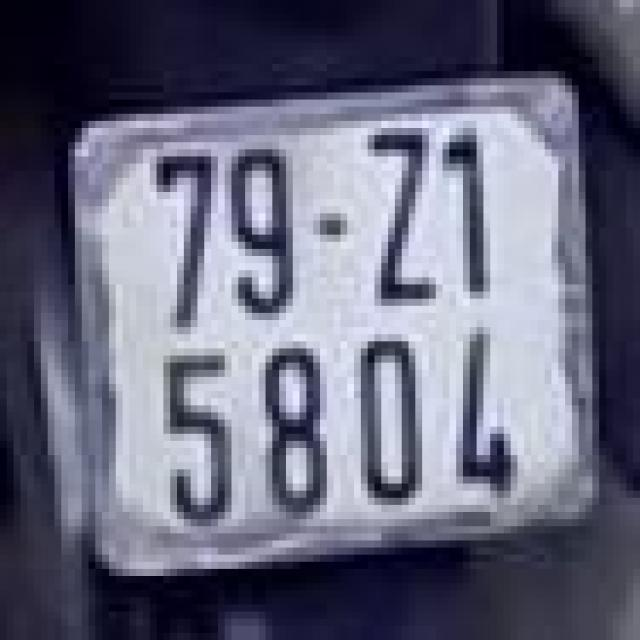0: (354, 331, 436, 508)
1: (439, 118, 501, 302)
4: (450, 327, 524, 505)
5: (150, 345, 252, 544)
7: (140, 142, 221, 334)
8: (259, 338, 340, 516)
9: (228, 142, 317, 334)
Z: (354, 121, 443, 313)
